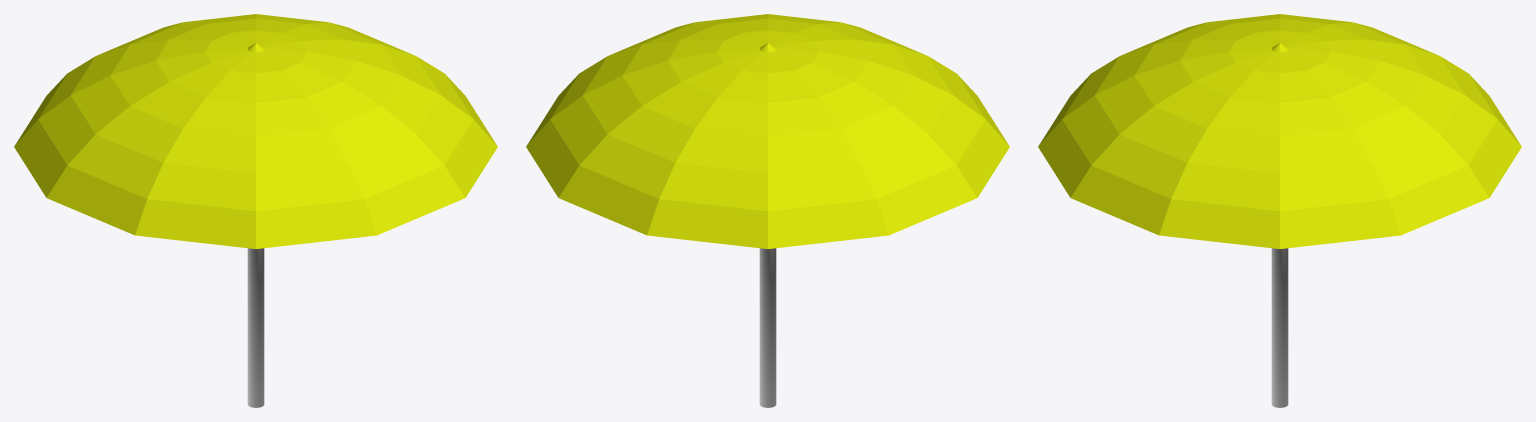
Rendered from Sombrilla5.fbx.
3 renders of one model, left to right at view 1: azimuth 30°, elevation 25°; view 2: azimuth 150°, elevation 25°; view 3: azimuth 270°, elevation 25°, orthographic.
Parts seen in each view (by area): view 1: Sombrilla, Palo; view 2: Sombrilla, Palo; view 3: Sombrilla, Palo.
Boxes of the visible parts, <box> form: Sombrilla: <box>14,14,497,248</box>; Palo: <box>247,248,264,407</box>; Sombrilla: <box>526,14,1009,248</box>; Palo: <box>759,248,776,407</box>; Sombrilla: <box>1038,14,1521,248</box>; Palo: <box>1271,248,1288,407</box>.
Bounding box in the file's own units: 276 × 227 × 276.
